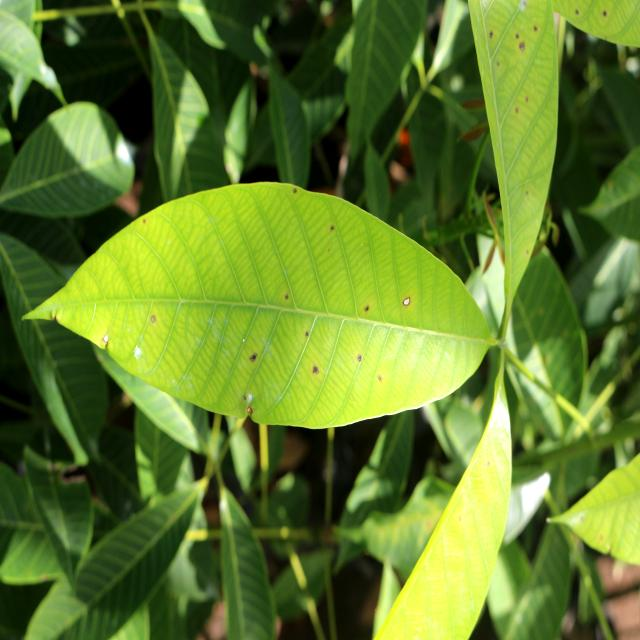Colletotrichum: (403, 297, 410, 306)
